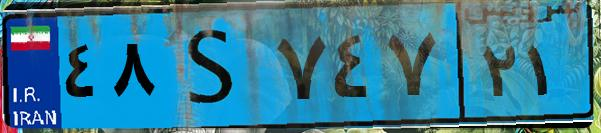1: (525, 38, 570, 115)
2: (475, 38, 525, 113)
4: (330, 28, 385, 110), (57, 26, 110, 100)
7: (270, 28, 330, 110), (385, 28, 445, 110)
8: (110, 28, 158, 98)
S: (158, 12, 270, 120)
